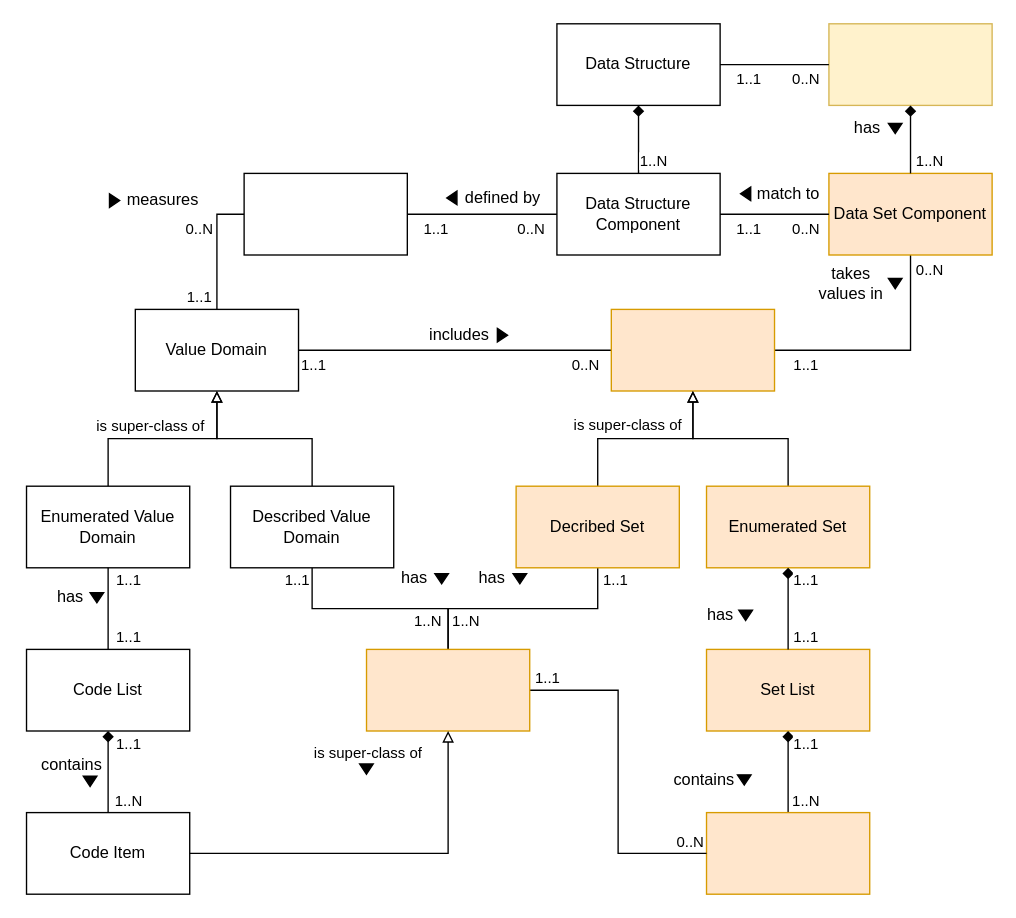
Image size: 1016x918. Some labels were removed from this diagram. The shapes that lost their labels are listed below. From the top down, each one's centre as x and y in pixels, then its label:
At point 910,63: "Data Set".
At point 325,213: "Represented Variable".
At point 692,349: "Value Domain Subset (Set)".
At point 447,689: "Value".
At point 787,852: "Set Item".
